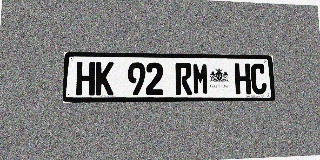2: (146, 62, 163, 95)
9: (128, 62, 145, 95)
C: (250, 63, 267, 94)
H: (76, 61, 95, 95), (234, 63, 251, 94)
K: (95, 62, 114, 95)
M: (192, 63, 209, 95)
R: (175, 63, 192, 95)
